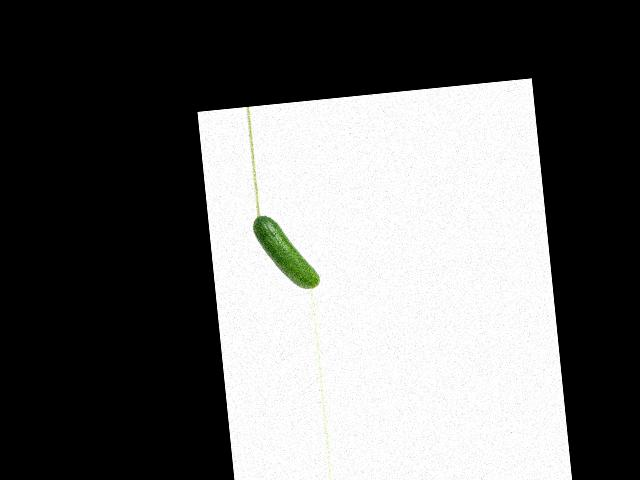cucumber: (251, 209, 320, 294)
